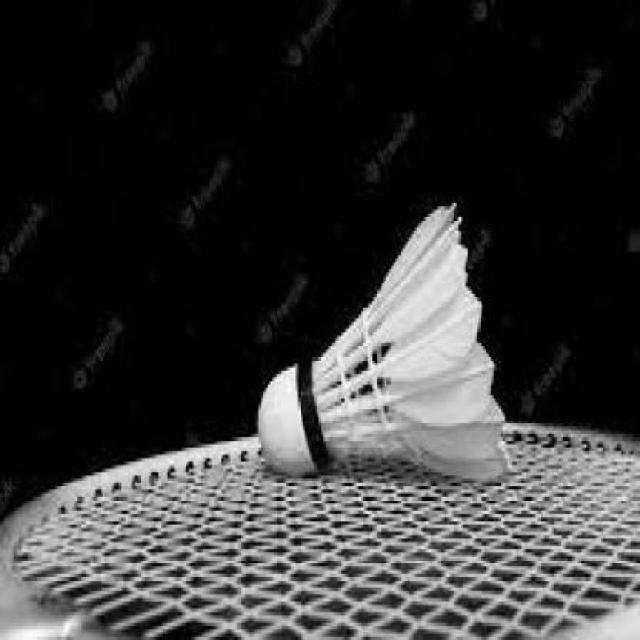Shuttlecock: (258, 194, 512, 486)
